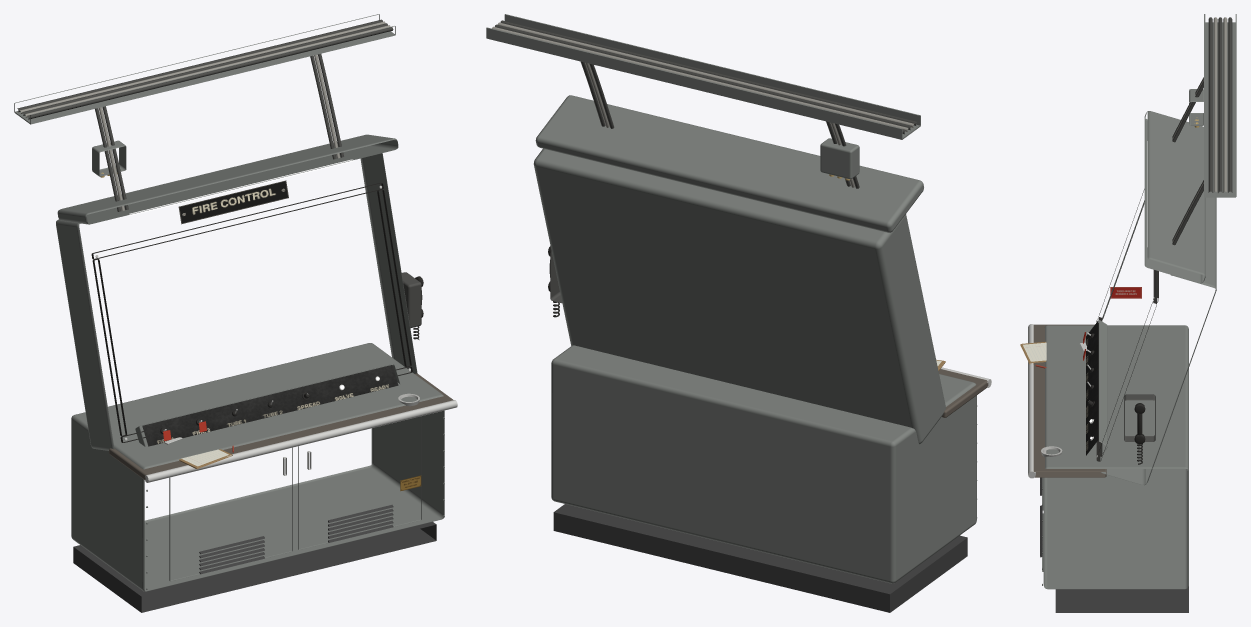
The model's file is fire_control.glb.
The picture shows the model from 3 angles, left to right: view 1: azimuth 30°, elevation 25°; view 2: azimuth 150°, elevation 25°; view 3: azimuth 270°, elevation 25°; orthographic projection. The views are drawn at different scales.
Parts seen in each view (by area): view 1: body; view 2: body; view 3: body.
Boxes of the visible parts, left/top/right/bottom form: body: left=14, top=14, right=457, bottom=612; body: left=486, top=14, right=991, bottom=612; body: left=1020, top=14, right=1236, bottom=612.
Bounding box in the file's own units: 2.1 × 2.48 × 1.1.
11 materials, 5 textured.
